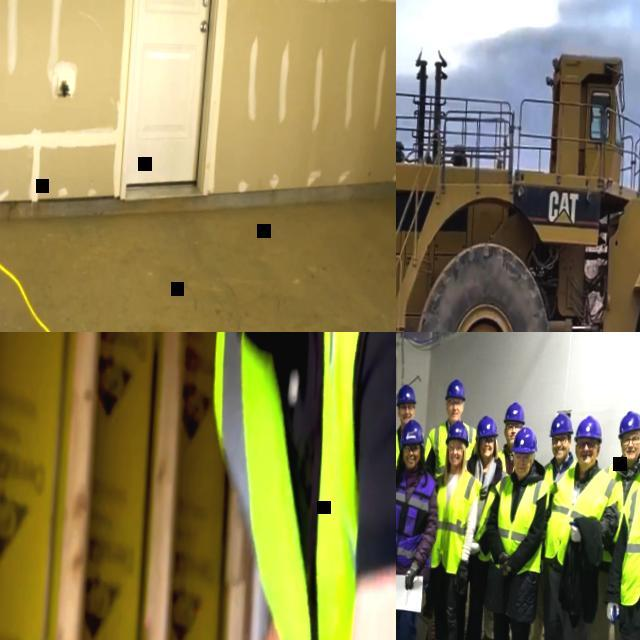helmet: (572, 414, 604, 444), (511, 426, 538, 455), (616, 408, 640, 440), (399, 418, 425, 446), (444, 420, 470, 448), (547, 412, 574, 438), (474, 414, 498, 440), (502, 400, 526, 425), (444, 379, 466, 401), (396, 383, 416, 406)
vest: (190, 332, 396, 640), (542, 462, 624, 572), (486, 472, 550, 578), (428, 470, 483, 578), (591, 457, 640, 566), (396, 467, 438, 567), (470, 466, 510, 564), (615, 473, 640, 617), (424, 419, 477, 478), (540, 456, 576, 511), (396, 426, 433, 464), (496, 450, 516, 475)
